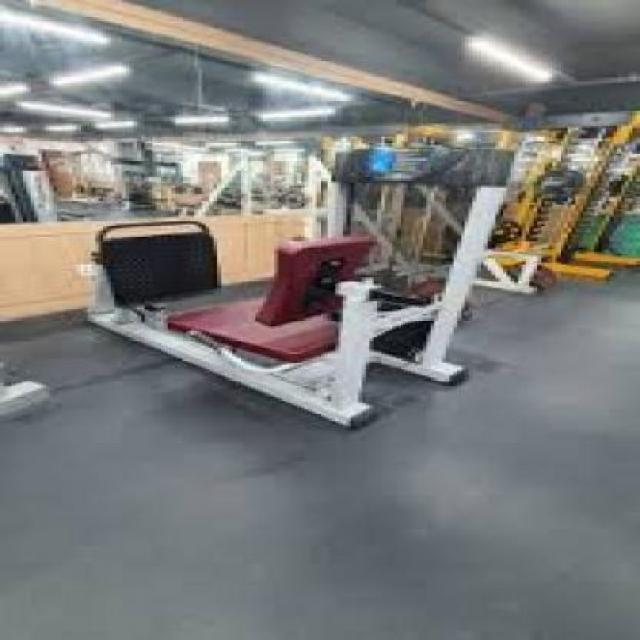leg press: (52, 131, 637, 440)
